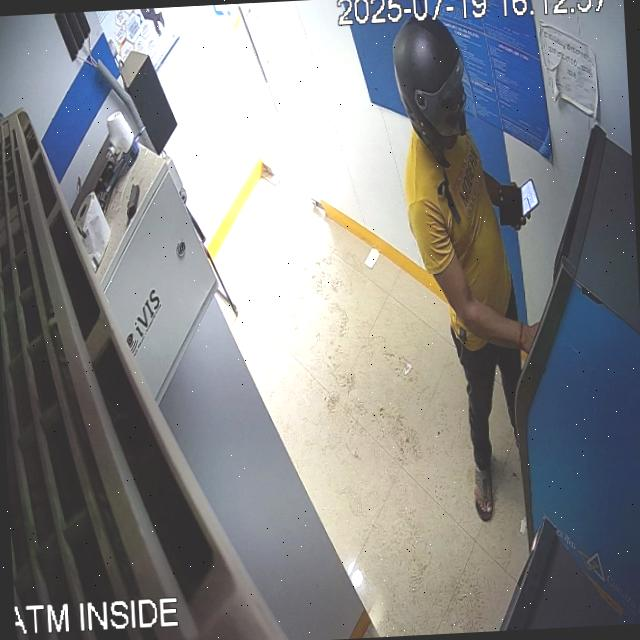helmet: (392, 13, 478, 155)
